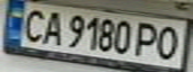0: (115, 17, 136, 55)
1: (81, 13, 100, 51)
8: (97, 16, 118, 53)
9: (63, 11, 87, 48)
A: (36, 8, 66, 46)
C: (15, 6, 51, 43)
O: (151, 24, 184, 61)
P: (133, 20, 163, 58)
